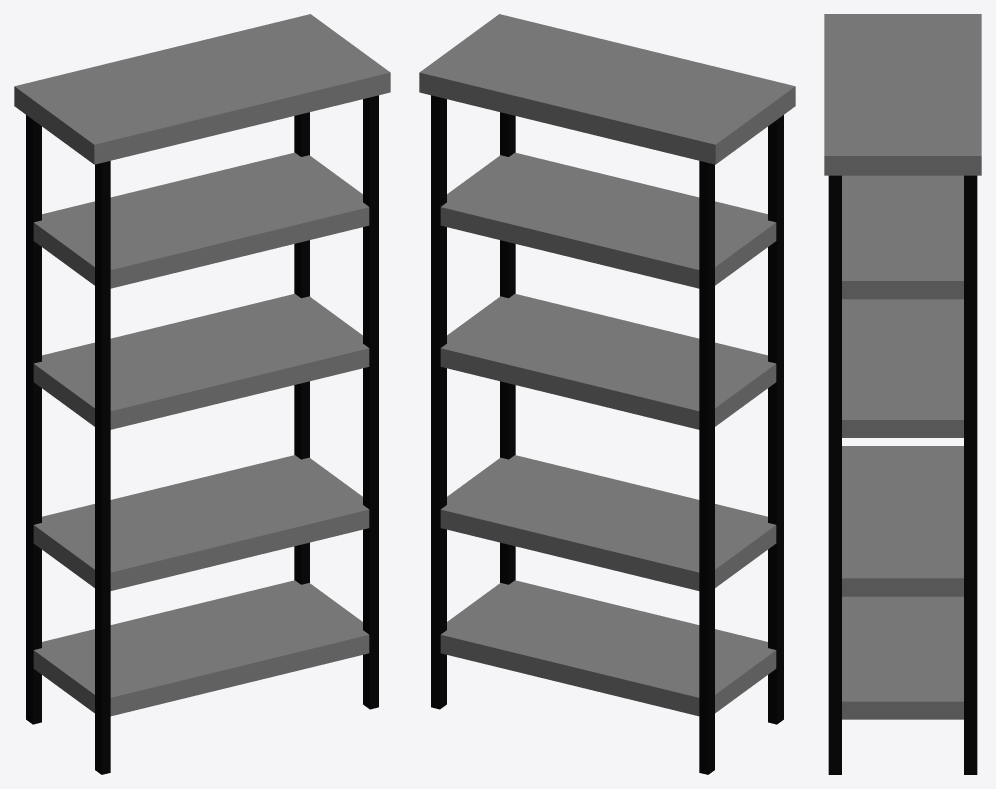
The model's file is StorageShelf.fbx.
3 renders of one model, left to right at view 1: azimuth 30°, elevation 25°; view 2: azimuth 150°, elevation 25°; view 3: azimuth 270°, elevation 25°, orthographic.
Parts seen in each view (by area): view 1: Storage_Shelf; view 2: Storage_Shelf; view 3: Storage_Shelf.
Part boxes in pixels (x1,y1,x2,y2): Storage_Shelf: (14, 14, 390, 774); Storage_Shelf: (419, 14, 795, 774); Storage_Shelf: (824, 14, 981, 774).
Bounding box in the file's own units: 101 × 207 × 47.23.
